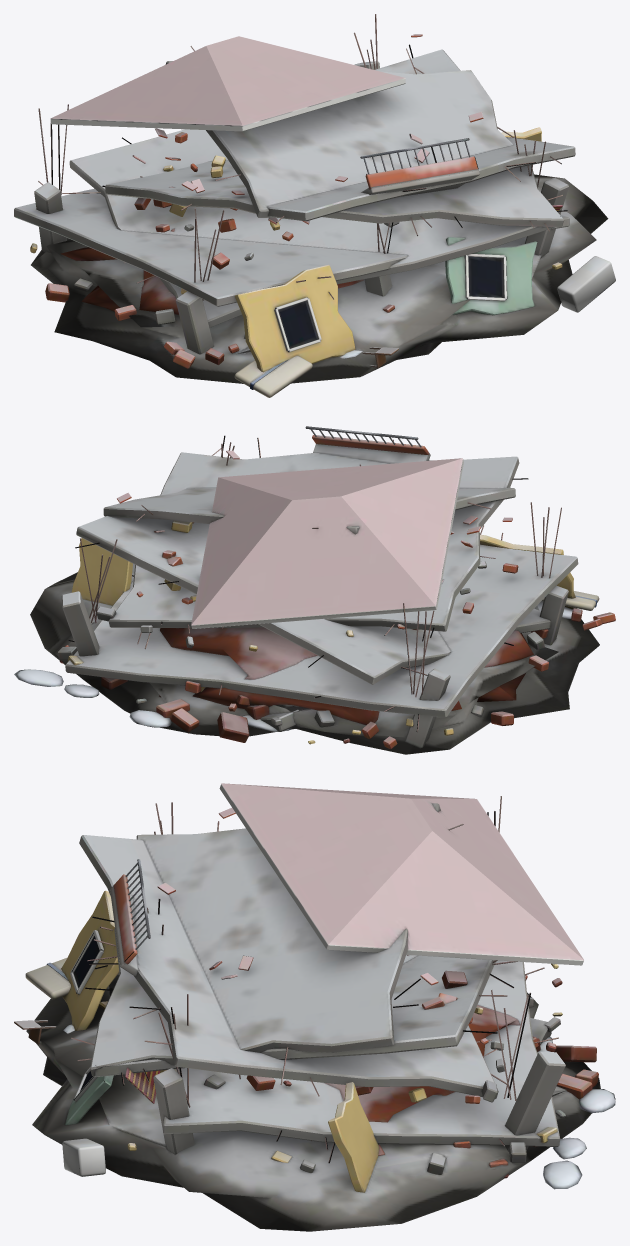
The model's file is collapse.glb.
3 renders of one model, top to bottom at view 1: azimuth 30°, elevation 25°; view 2: azimuth 150°, elevation 25°; view 3: azimuth 270°, elevation 25°, orthographic. The views are drawn at different scales.
Parts seen in each view (by area): view 1: collapse; view 2: collapse; view 3: collapse.
Part boxes in pixels (<box>): collapse: <box>14,14,615,397</box>; collapse: <box>14,426,615,754</box>; collapse: <box>14,783,615,1231</box>.
Size of the model in its own units: 17.06 by 6.45 by 14.27.
1 material, 1 textured.
